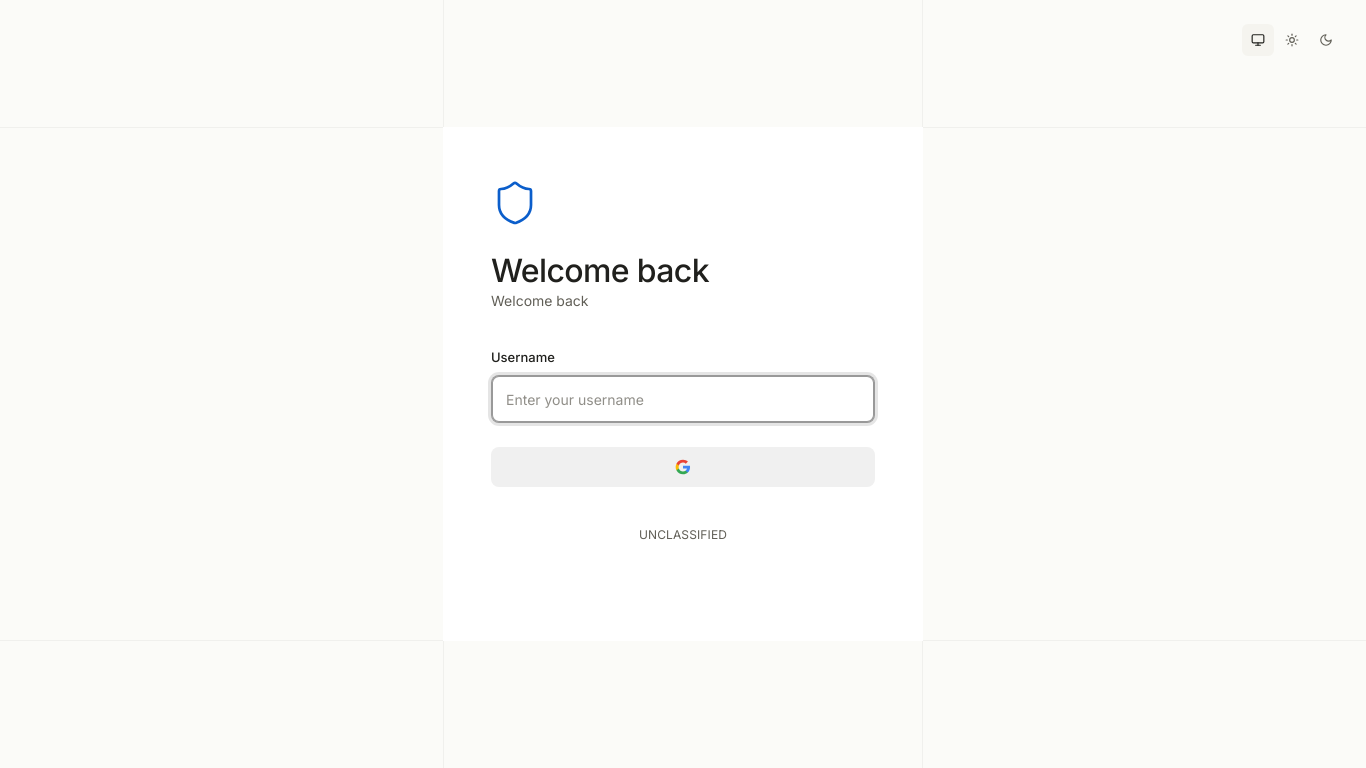
Test: Login — SSO probe folded into the first-paint gate (finding 2) › holds the form until the SSO probe settles, then paints form + SSO together
Expected: the button "Continue" is not shown
Type "analyst" into the field labelled "Username".
click(683, 399); type("analyst")  # box [491,375,875,423]
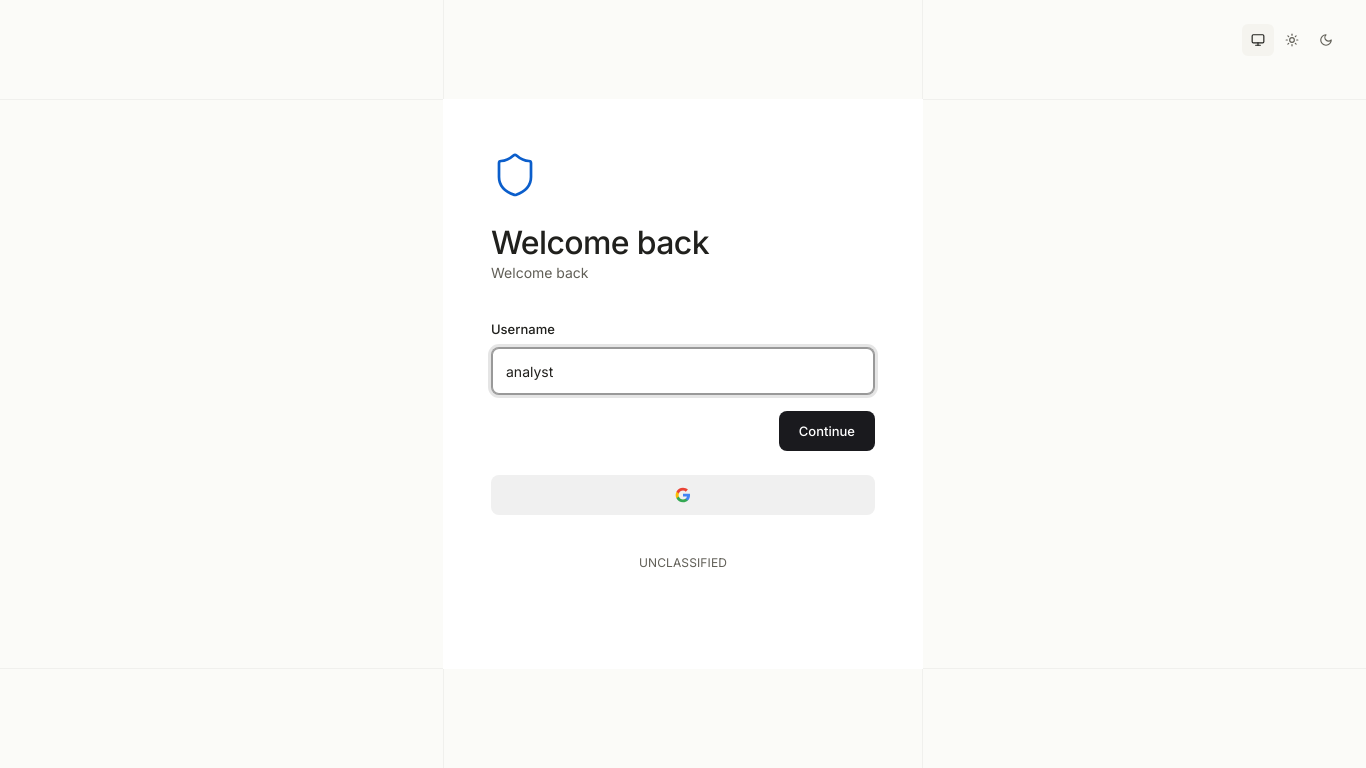
Now the button "Continue" is shown, box [779,411,875,451]
